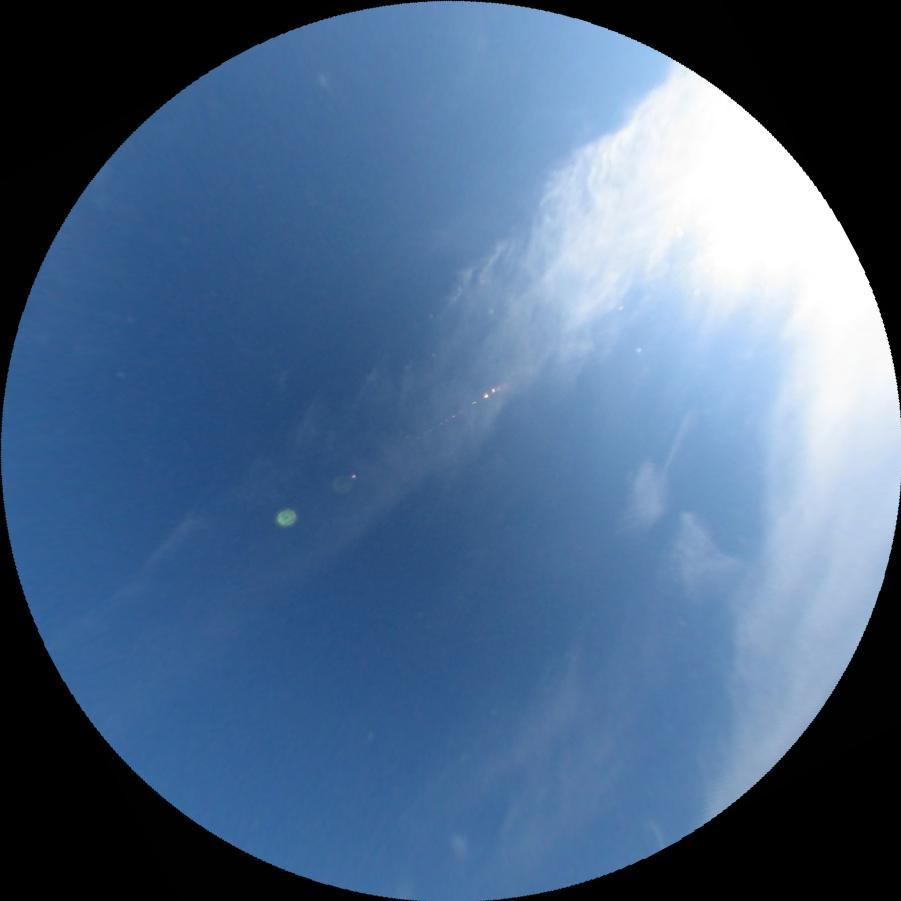contrail veryold: (174, 53, 769, 698), (603, 458, 752, 611)
unknow: (654, 408, 691, 478)
